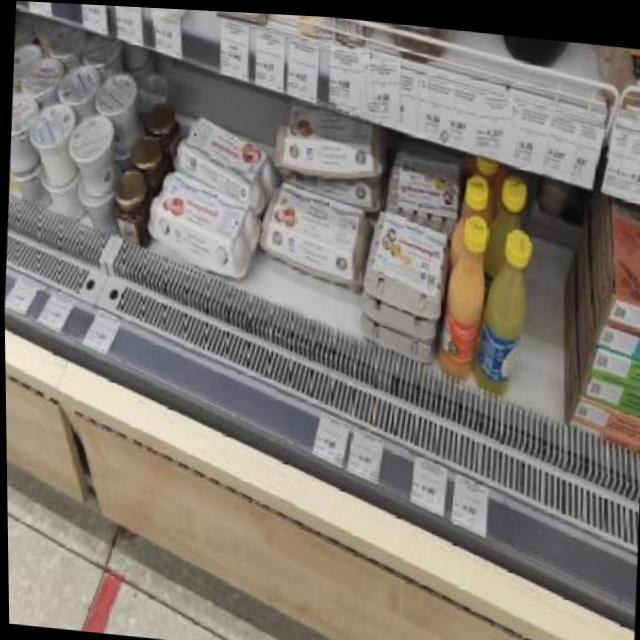Egg: (472, 217, 547, 394), (254, 180, 377, 285), (144, 168, 264, 273), (171, 115, 280, 214), (435, 203, 492, 386), (273, 99, 387, 183), (93, 65, 144, 150), (29, 102, 79, 187), (75, 109, 118, 198), (111, 165, 154, 245), (143, 93, 183, 170), (9, 91, 40, 176), (130, 135, 169, 198), (20, 56, 64, 102), (57, 61, 100, 107), (46, 22, 86, 66), (81, 31, 123, 70)
